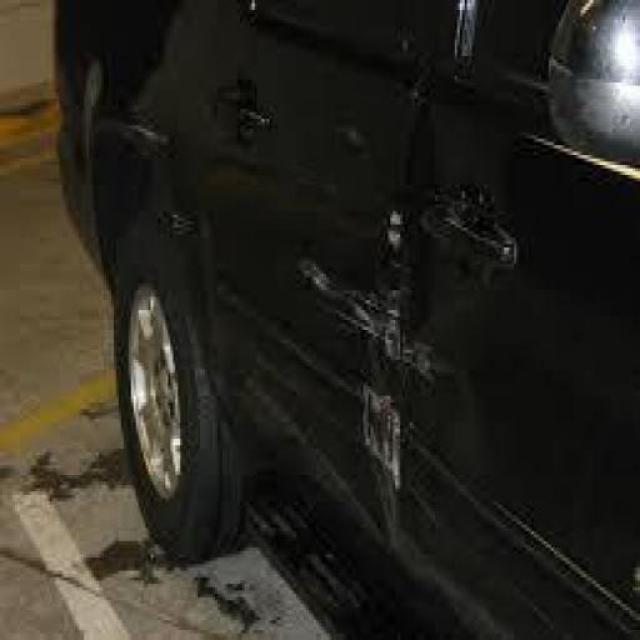scratch: (299, 195, 441, 393), (347, 381, 410, 545)
